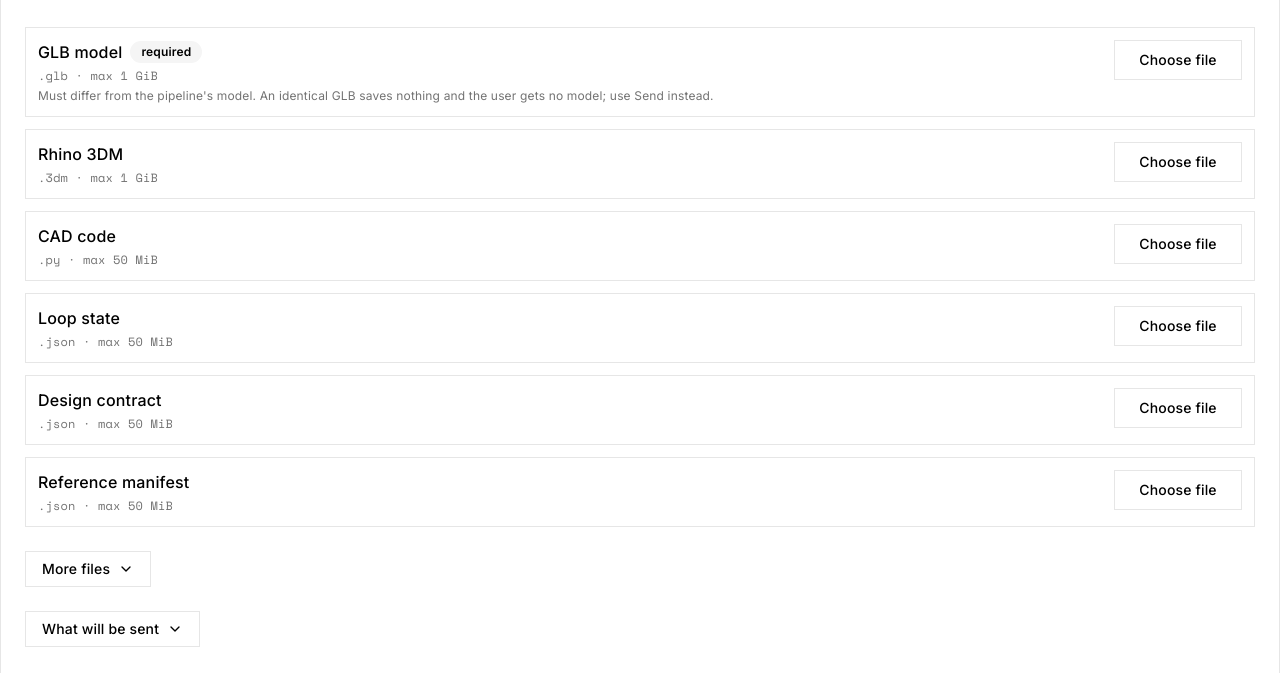
Test: SupervisedReplacementPanel › shows the main files first and folds the rest under More files
Expected: the text "GLB model" is shown, x1=38 y1=40 x2=122 y2=64
Expected: the text "Rhino 3DM" is shown, x1=38 y1=142 x2=123 y2=166
Click the button "More files" at coordinates (88, 569), box x1=25 y1=551 x2=151 y2=587
(page scrolled)
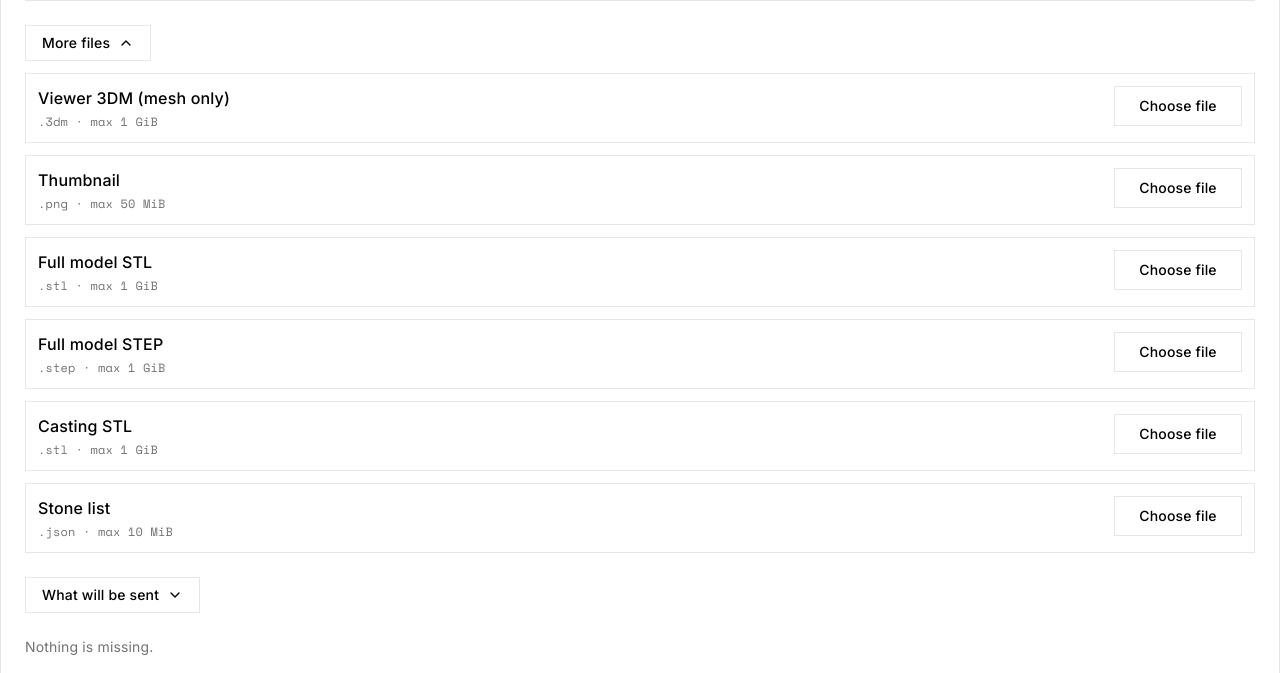
Expected: the text "Casting STL" is shown, x1=38 y1=414 x2=132 y2=438
Expected: the element named "Casting STL file" is shown, x1=1114 y1=414 x2=1242 y2=454
